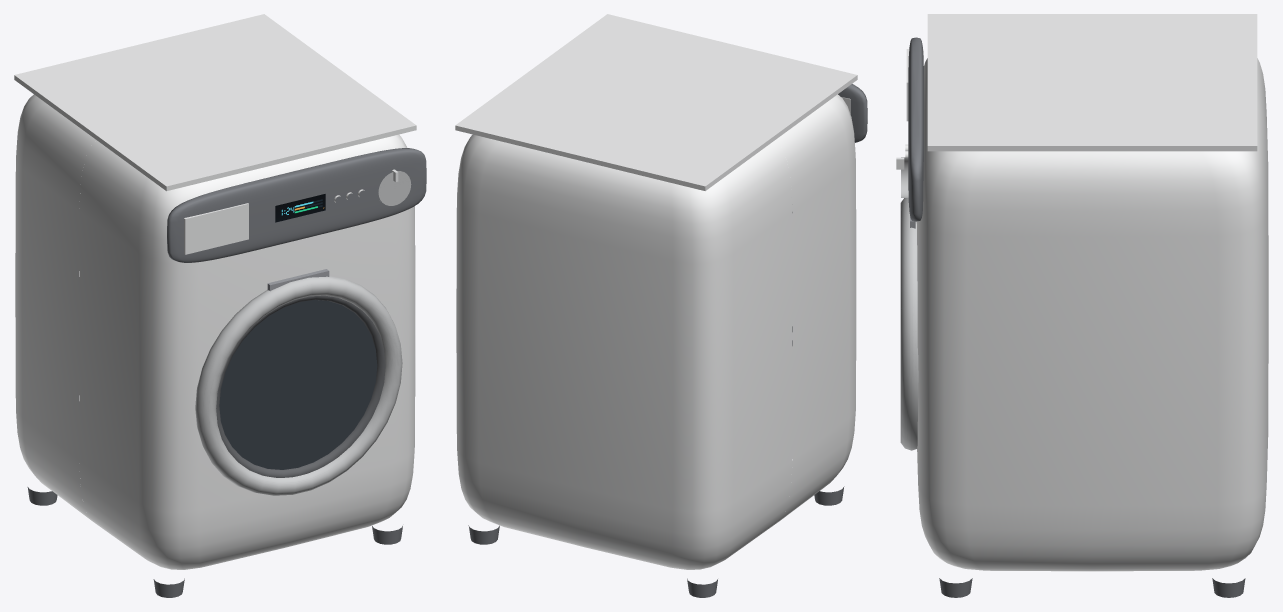
File: washing-machine.glb
3 renders of one model, left to right at view 1: azimuth 30°, elevation 25°; view 2: azimuth 150°, elevation 25°; view 3: azimuth 270°, elevation 25°, orthographic. The views are drawn at different scales.
Visible parts, largest first — view 1: body, lid-seam, porthole-glass, control-panel, porthole-rim, door-seal, drawer, display, dial; view 2: body, lid-seam, control-panel; view 3: body, lid-seam, porthole-rim, control-panel.
Boxes of the visible parts, x1,y1,x2,y2 form: body: (15,94,415,569); lid-seam: (14,14,416,191); porthole-glass: (219,300,377,469); control-panel: (167,148,426,262); porthole-rim: (195,276,402,495); door-seal: (216,295,385,477); drawer: (184,203,248,254); display: (275,194,325,222); dial: (378,171,411,205); body: (456,94,856,569); lid-seam: (455,14,857,190); control-panel: (838,84,867,142); body: (916,58,1268,571); lid-seam: (927,14,1257,151); porthole-rim: (900,198,918,450); control-panel: (908,37,923,221).
Bounding box in the file's own units: 0.6 × 0.881 × 0.655.
Materials: 9 (3 with a texture image).
